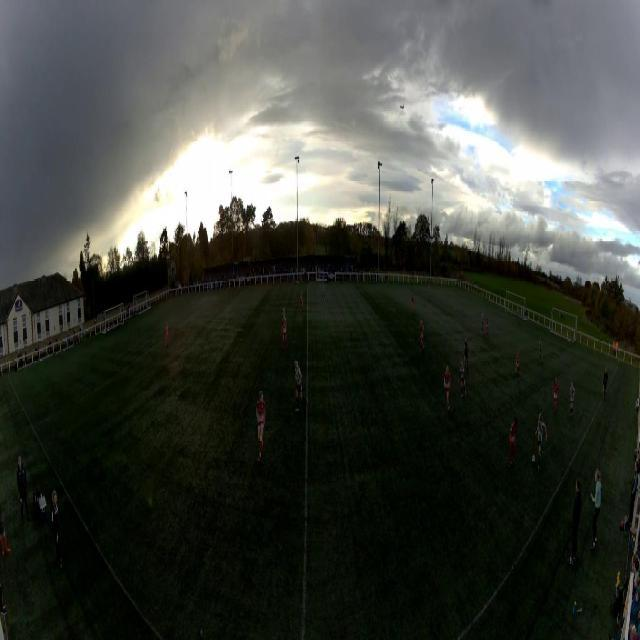ball: (532, 455, 536, 463)
player: (534, 414, 548, 472), (255, 393, 266, 458), (294, 355, 304, 412), (509, 416, 517, 471), (444, 364, 451, 411), (458, 361, 466, 399), (281, 310, 287, 351), (569, 380, 575, 418), (419, 318, 425, 355), (554, 378, 559, 415), (464, 335, 469, 370), (515, 351, 520, 383), (298, 291, 303, 313), (538, 337, 542, 364), (165, 323, 169, 348), (485, 316, 489, 338), (322, 282, 327, 299), (411, 295, 415, 314), (481, 311, 484, 333), (518, 309, 520, 325), (428, 286, 430, 301)
